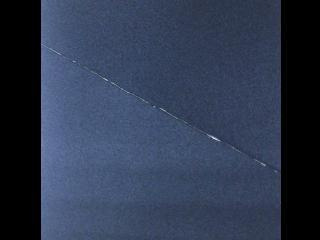crack: (40, 35, 281, 183)
